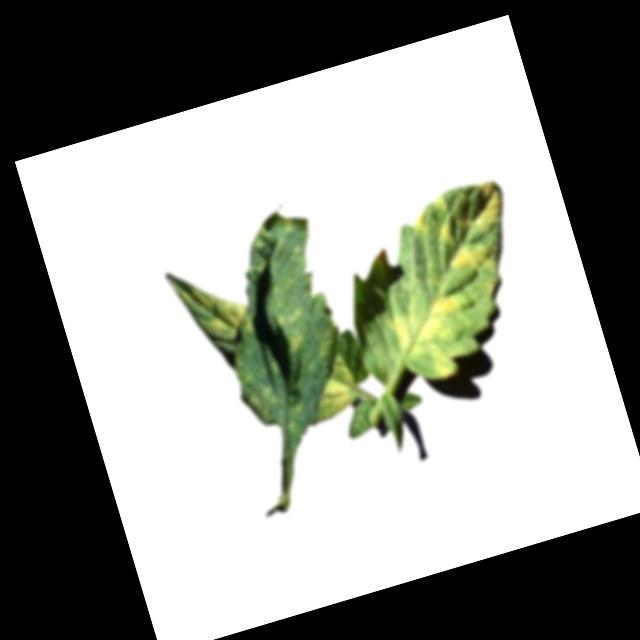Leaf_Mold: (384, 291, 482, 390), (193, 278, 251, 342), (454, 176, 508, 238), (444, 234, 506, 280), (310, 367, 360, 420), (273, 302, 314, 354), (407, 206, 430, 234)
